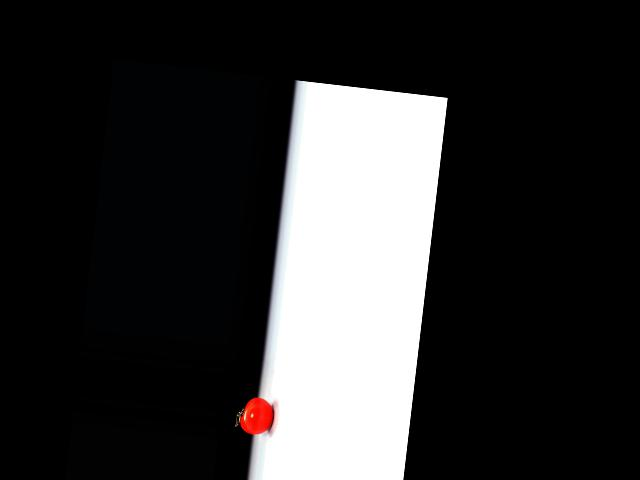tomato: (238, 395, 275, 436)
